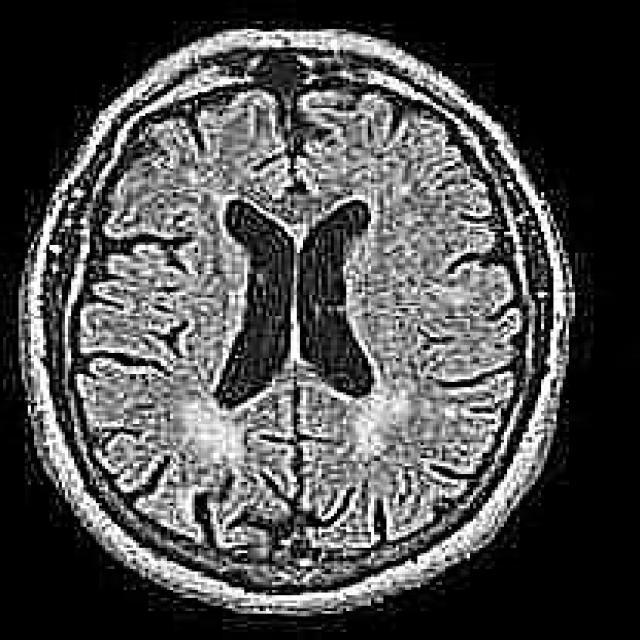notumor: (15, 29, 575, 622)
